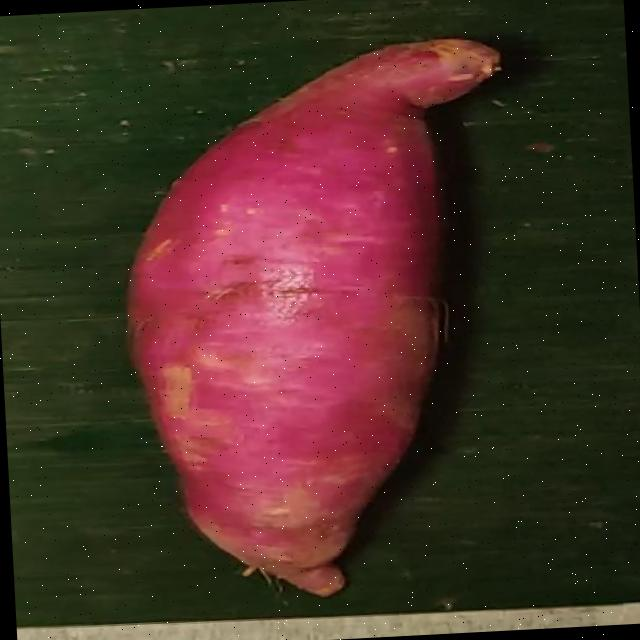Sweet Potato: (124, 37, 500, 594)
